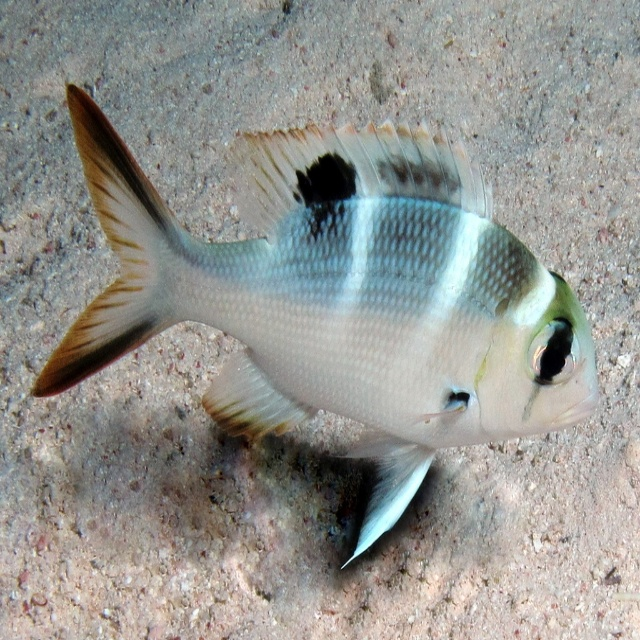Fish: (29, 80, 596, 577)
